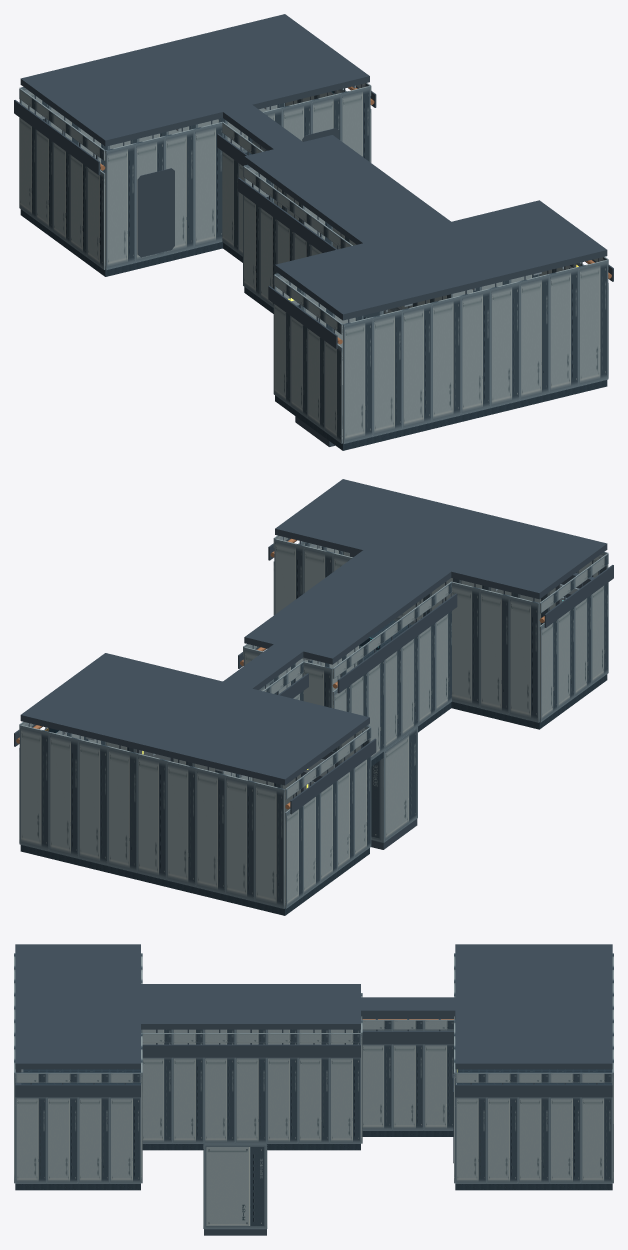
The model's file is orbital-facility.glb.
The picture shows the model from 3 angles, top to bottom: view 1: azimuth 30°, elevation 25°; view 2: azimuth 150°, elevation 25°; view 3: azimuth 270°, elevation 25°; orthographic projection. The views are drawn at different scales.
Visible parts, largest first — view 1: SecurityAirlock, ArrivalBay, BreachThroat, CoolantTransfer; view 2: ArrivalBay, SecurityAirlock, CoolantTransfer, BreachThroat; view 3: ArrivalBay, SecurityAirlock, CoolantTransfer, BreachThroat.
Part boxes in pixels (box(x1,y1,x2,y2)): SecurityAirlock: box(268, 200, 613, 450); ArrivalBay: box(14, 14, 376, 276); BreachThroat: box(105, 86, 370, 304); CoolantTransfer: box(254, 147, 434, 446); ArrivalBay: box(14, 653, 376, 915); SecurityAirlock: box(268, 479, 613, 729); CoolantTransfer: box(256, 562, 440, 849); BreachThroat: box(105, 624, 370, 812); ArrivalBay: box(453, 944, 613, 1190); SecurityAirlock: box(14, 944, 172, 1190); CoolantTransfer: box(172, 984, 329, 1235); BreachThroat: box(329, 953, 455, 1183).
Bounding box in the file's own units: 9.45 × 7.44 × 19.09.
11 materials, 4 textured.
